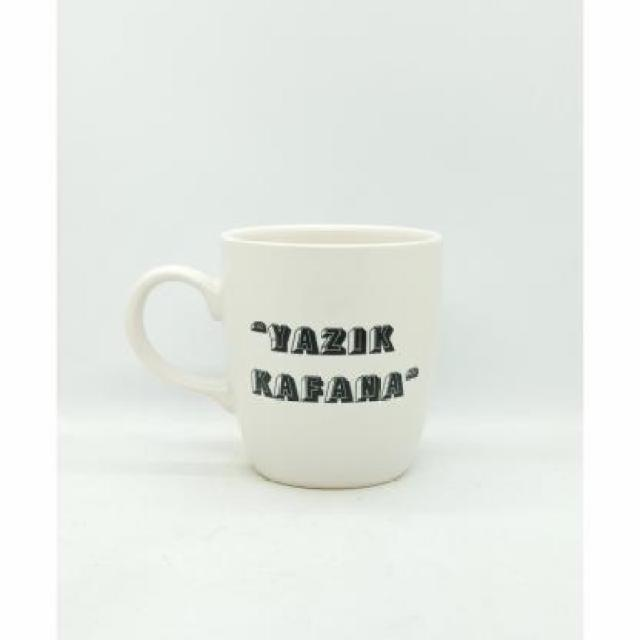taza: (124, 225, 443, 490)
